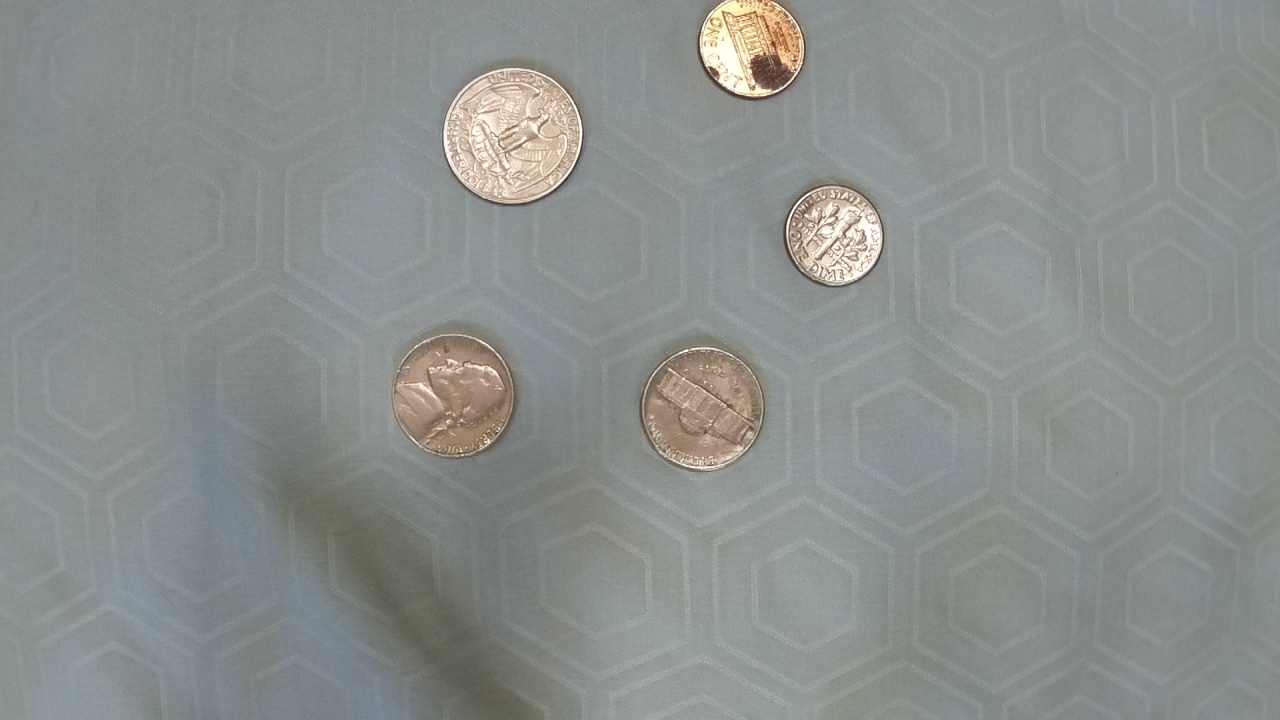dime: (780, 179, 888, 289)
nickel: (390, 326, 516, 464), (638, 342, 768, 472)
penny: (692, 0, 808, 100)
quarter: (438, 60, 586, 208)
